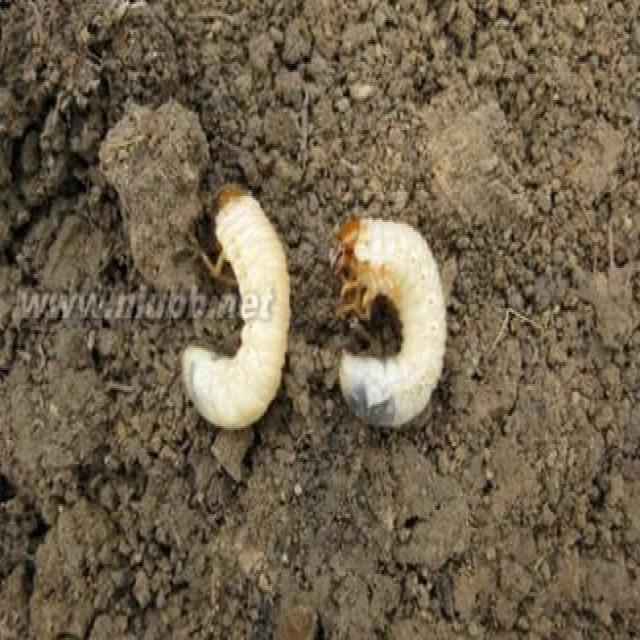Grub-Adult-: (148, 157, 311, 458), (312, 198, 462, 448)
